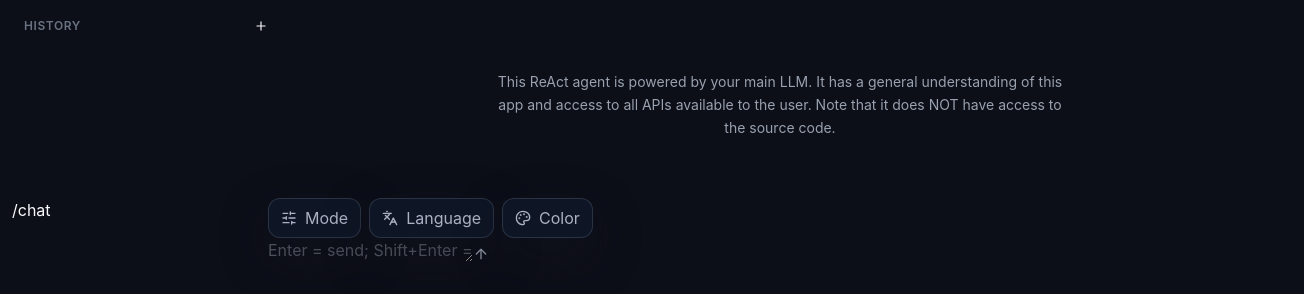
ChatPage slash commands › runs /compact as a turn: the command as the user’s line, the summary step as its bare reply
In the text box with test id "chat-input": (370,250) [268,238,473,262], type "hi there"
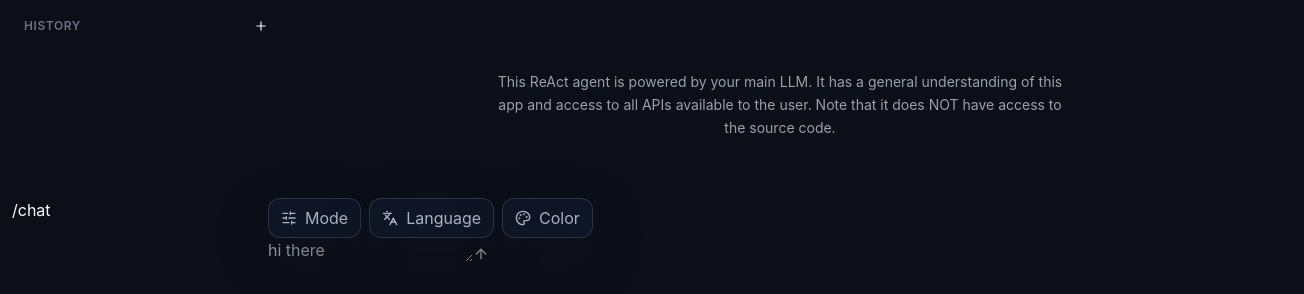
Click the button with test id "chat-send": (481,254) [473,246,489,262]
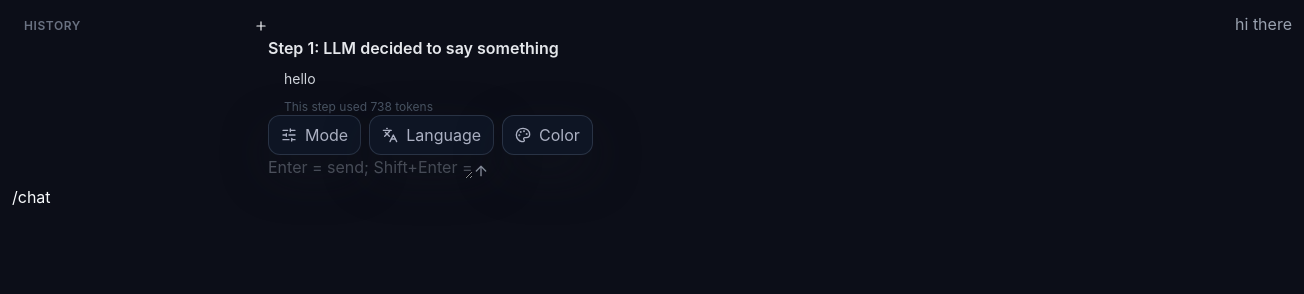
expect the text "hello" is shown: met, box [284,70,316,87]
In the text box with test id "chat-input": (370,167) [268,155,473,179], type "/compact"
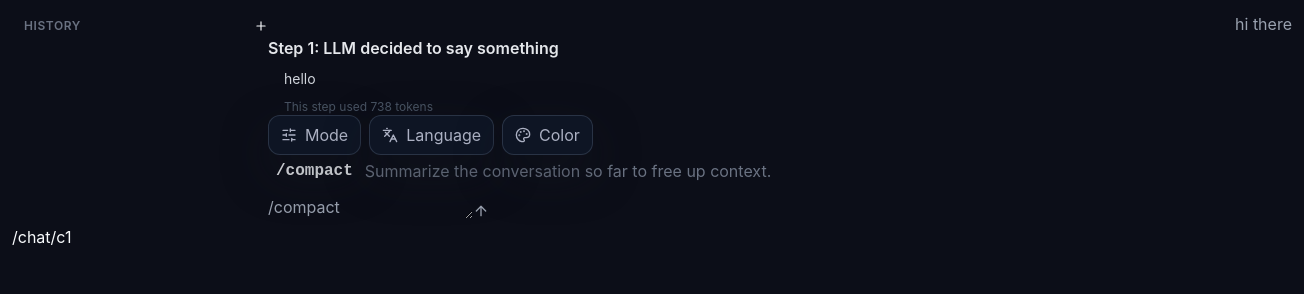
Click the button with test id "chat-send": (481,211) [473,203,489,219]
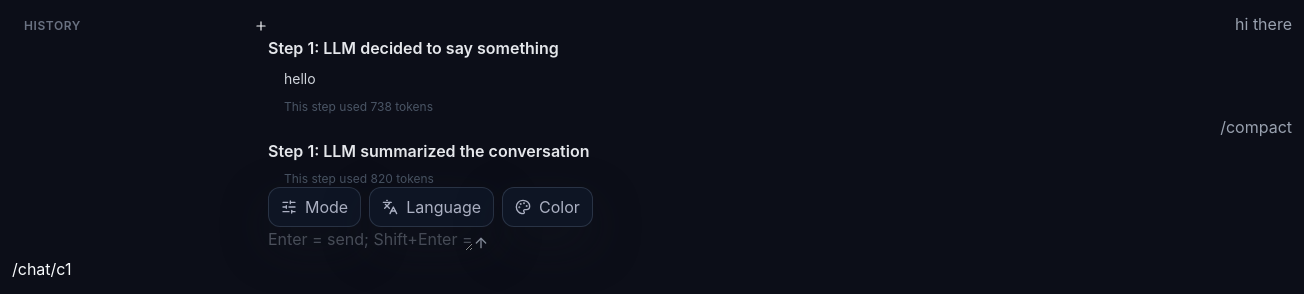
expect the elements with test id "chat-user" read "hi there", "/compact", in this order: met, box [1235,14,1292,34]; [1220,117,1292,137]
expect the text "Step 1: LLM summarized the conversation" is shown: met, box [268,141,589,161]
expect the element with test id "chat-summary" shows "820": met, box [284,171,434,187]
